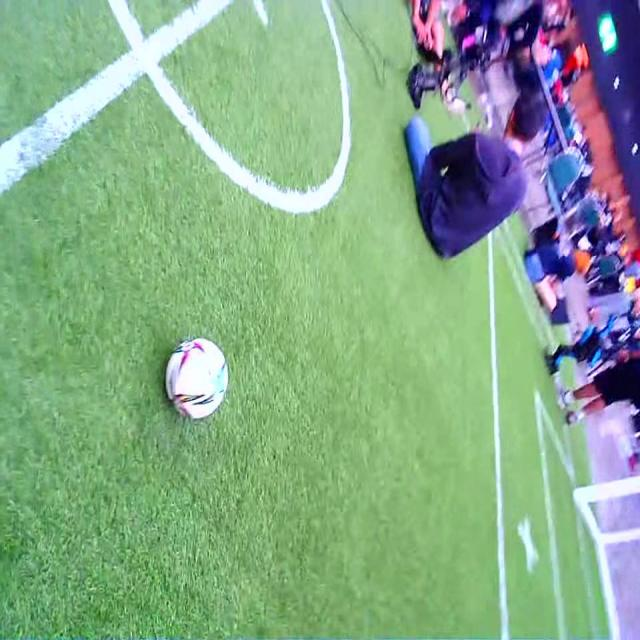ball: (168, 337, 227, 418)
